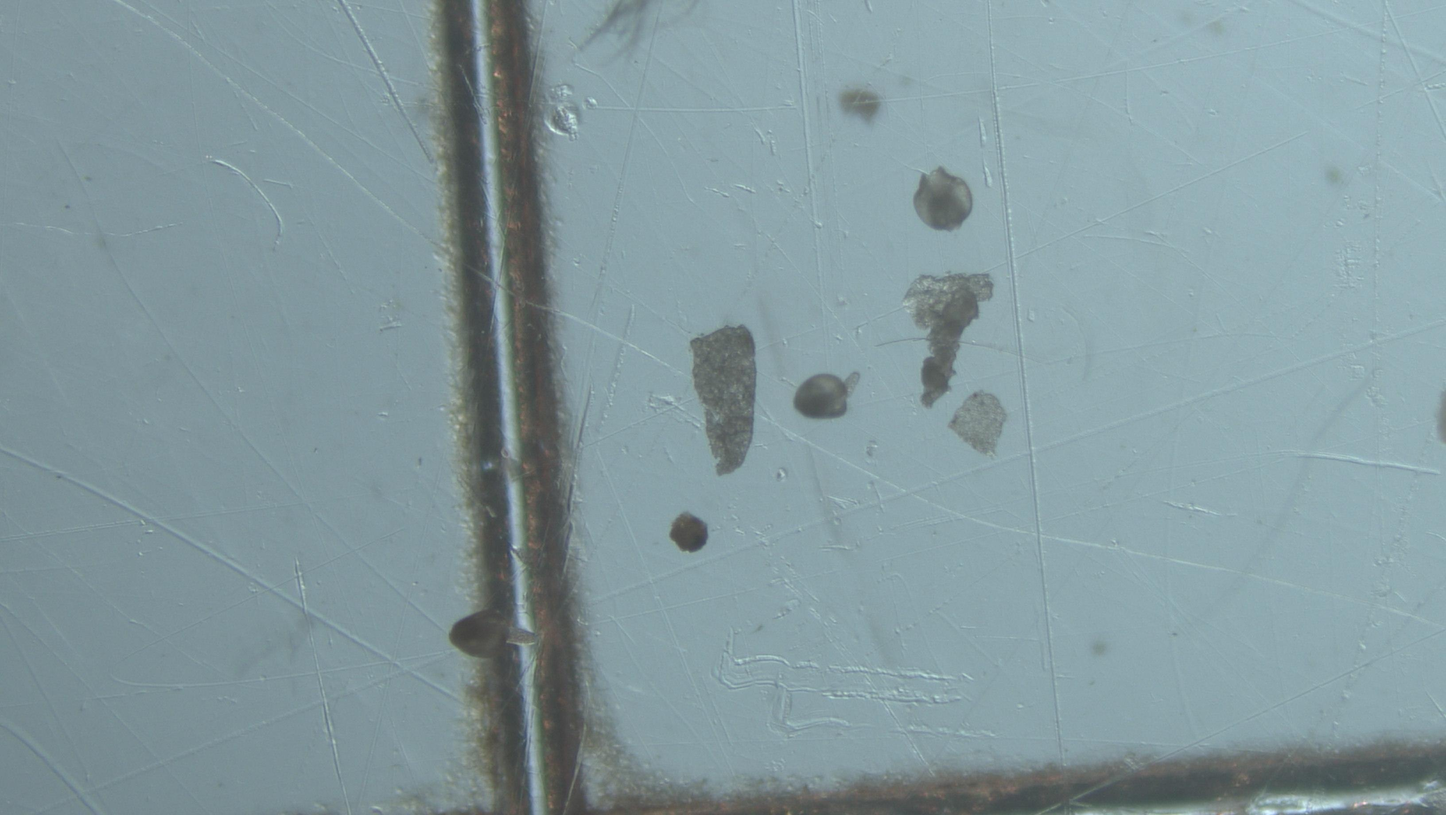live: (449, 608, 534, 660), (913, 167, 974, 231), (793, 373, 859, 420)
